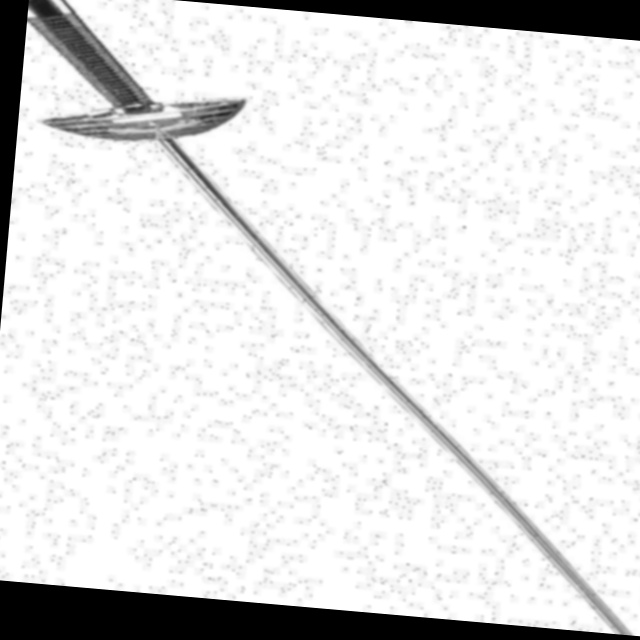Sharp-Object: (12, 33, 640, 628)
